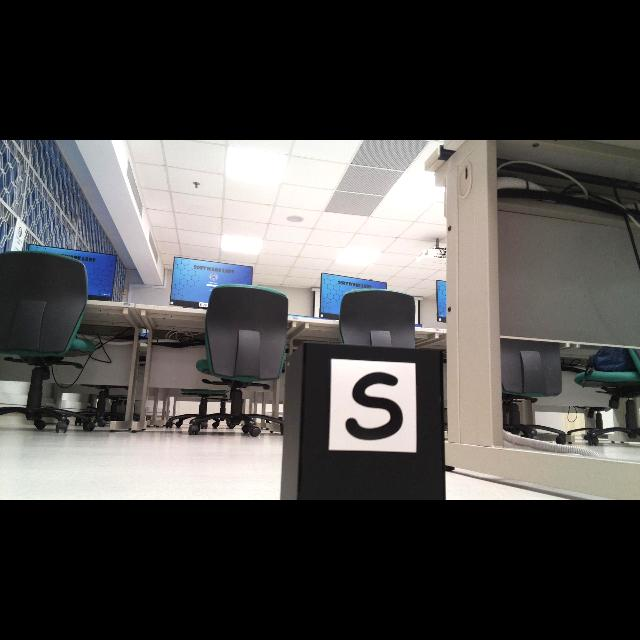S: (345, 372, 404, 440)
